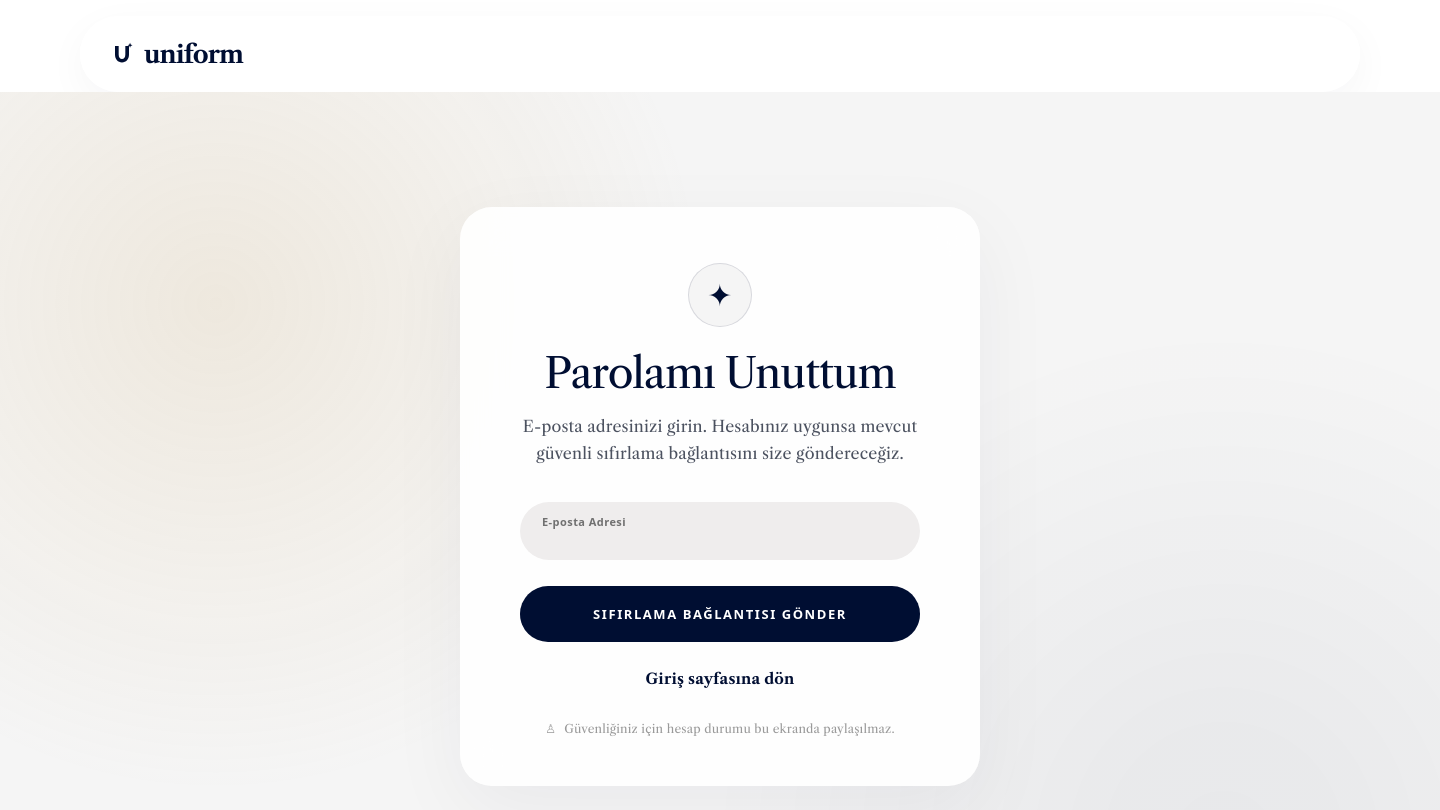
password recovery and security pages › keeps the styled forgot-password form available after a safe request error
This screenshot has width=1440, height=810.
Type "user@example.com" into the field labelled "E-posta Adresi" at (720, 531), box [520, 502, 920, 560]
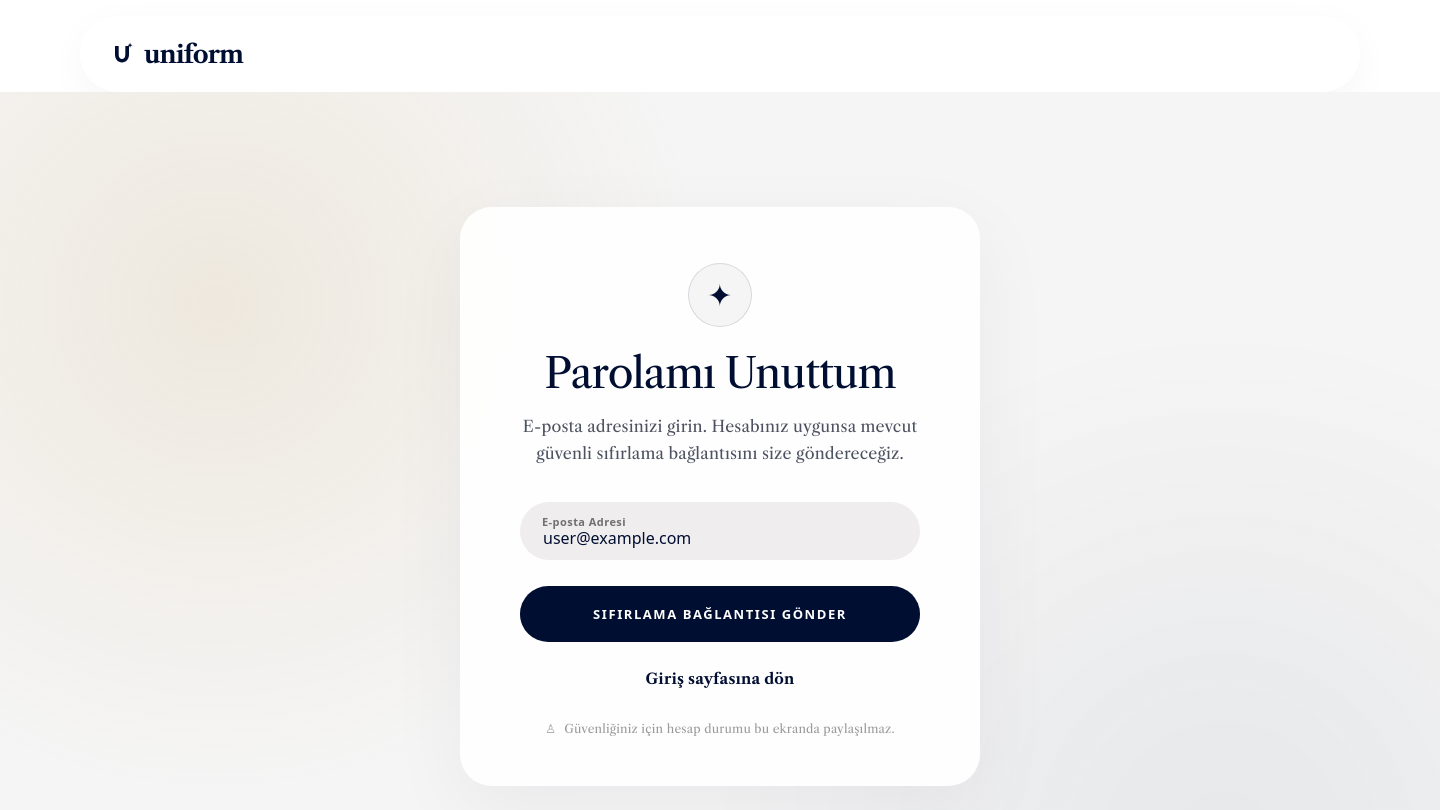
Click the button "Sıfırlama Bağlantısı Gönder" at (720, 614), box [520, 586, 920, 642]
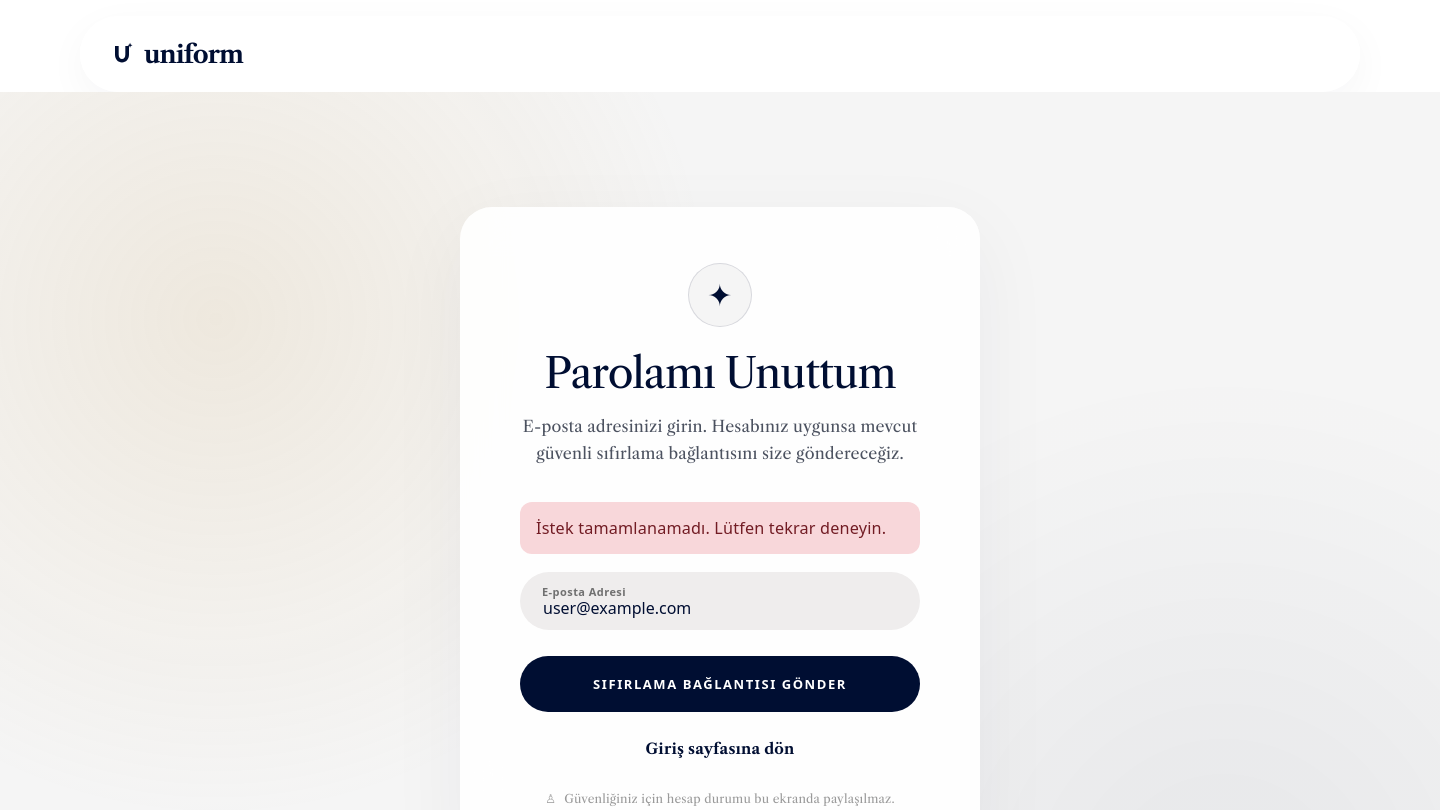
Expected: the button "Sıfırlama Bağlantısı Gönder" is enabled, [520, 656, 920, 712]
Now the text "İstek tamamlanamadı. Lütfen tekrar deneyin." is shown, box [536, 515, 904, 541]
